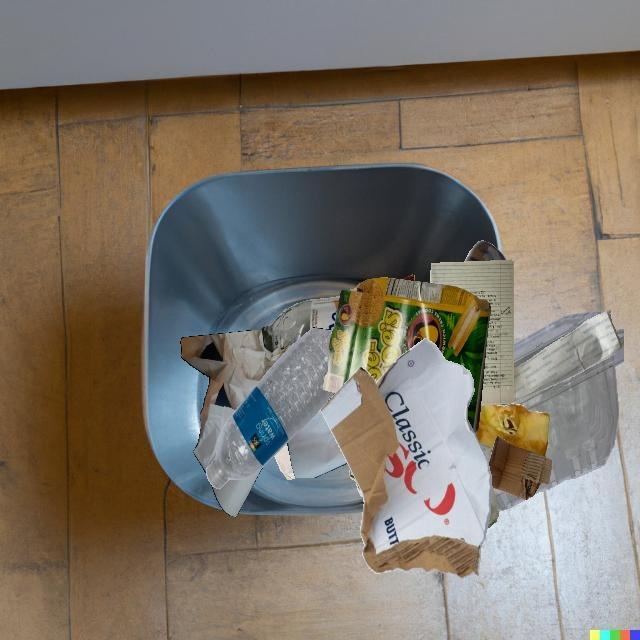biowaste: (475, 403, 549, 457)
cardboard: (320, 338, 491, 579), (323, 277, 491, 435), (489, 435, 552, 500)
glass: (261, 296, 340, 351), (464, 240, 506, 262), (487, 484, 498, 528), (402, 275, 415, 281)
paper: (181, 330, 292, 474), (430, 260, 514, 406), (495, 311, 622, 406), (287, 393, 347, 478), (274, 443, 295, 479), (349, 468, 363, 497), (479, 442, 491, 464)
plastic: (206, 327, 334, 489), (533, 330, 624, 494), (530, 330, 615, 395)
